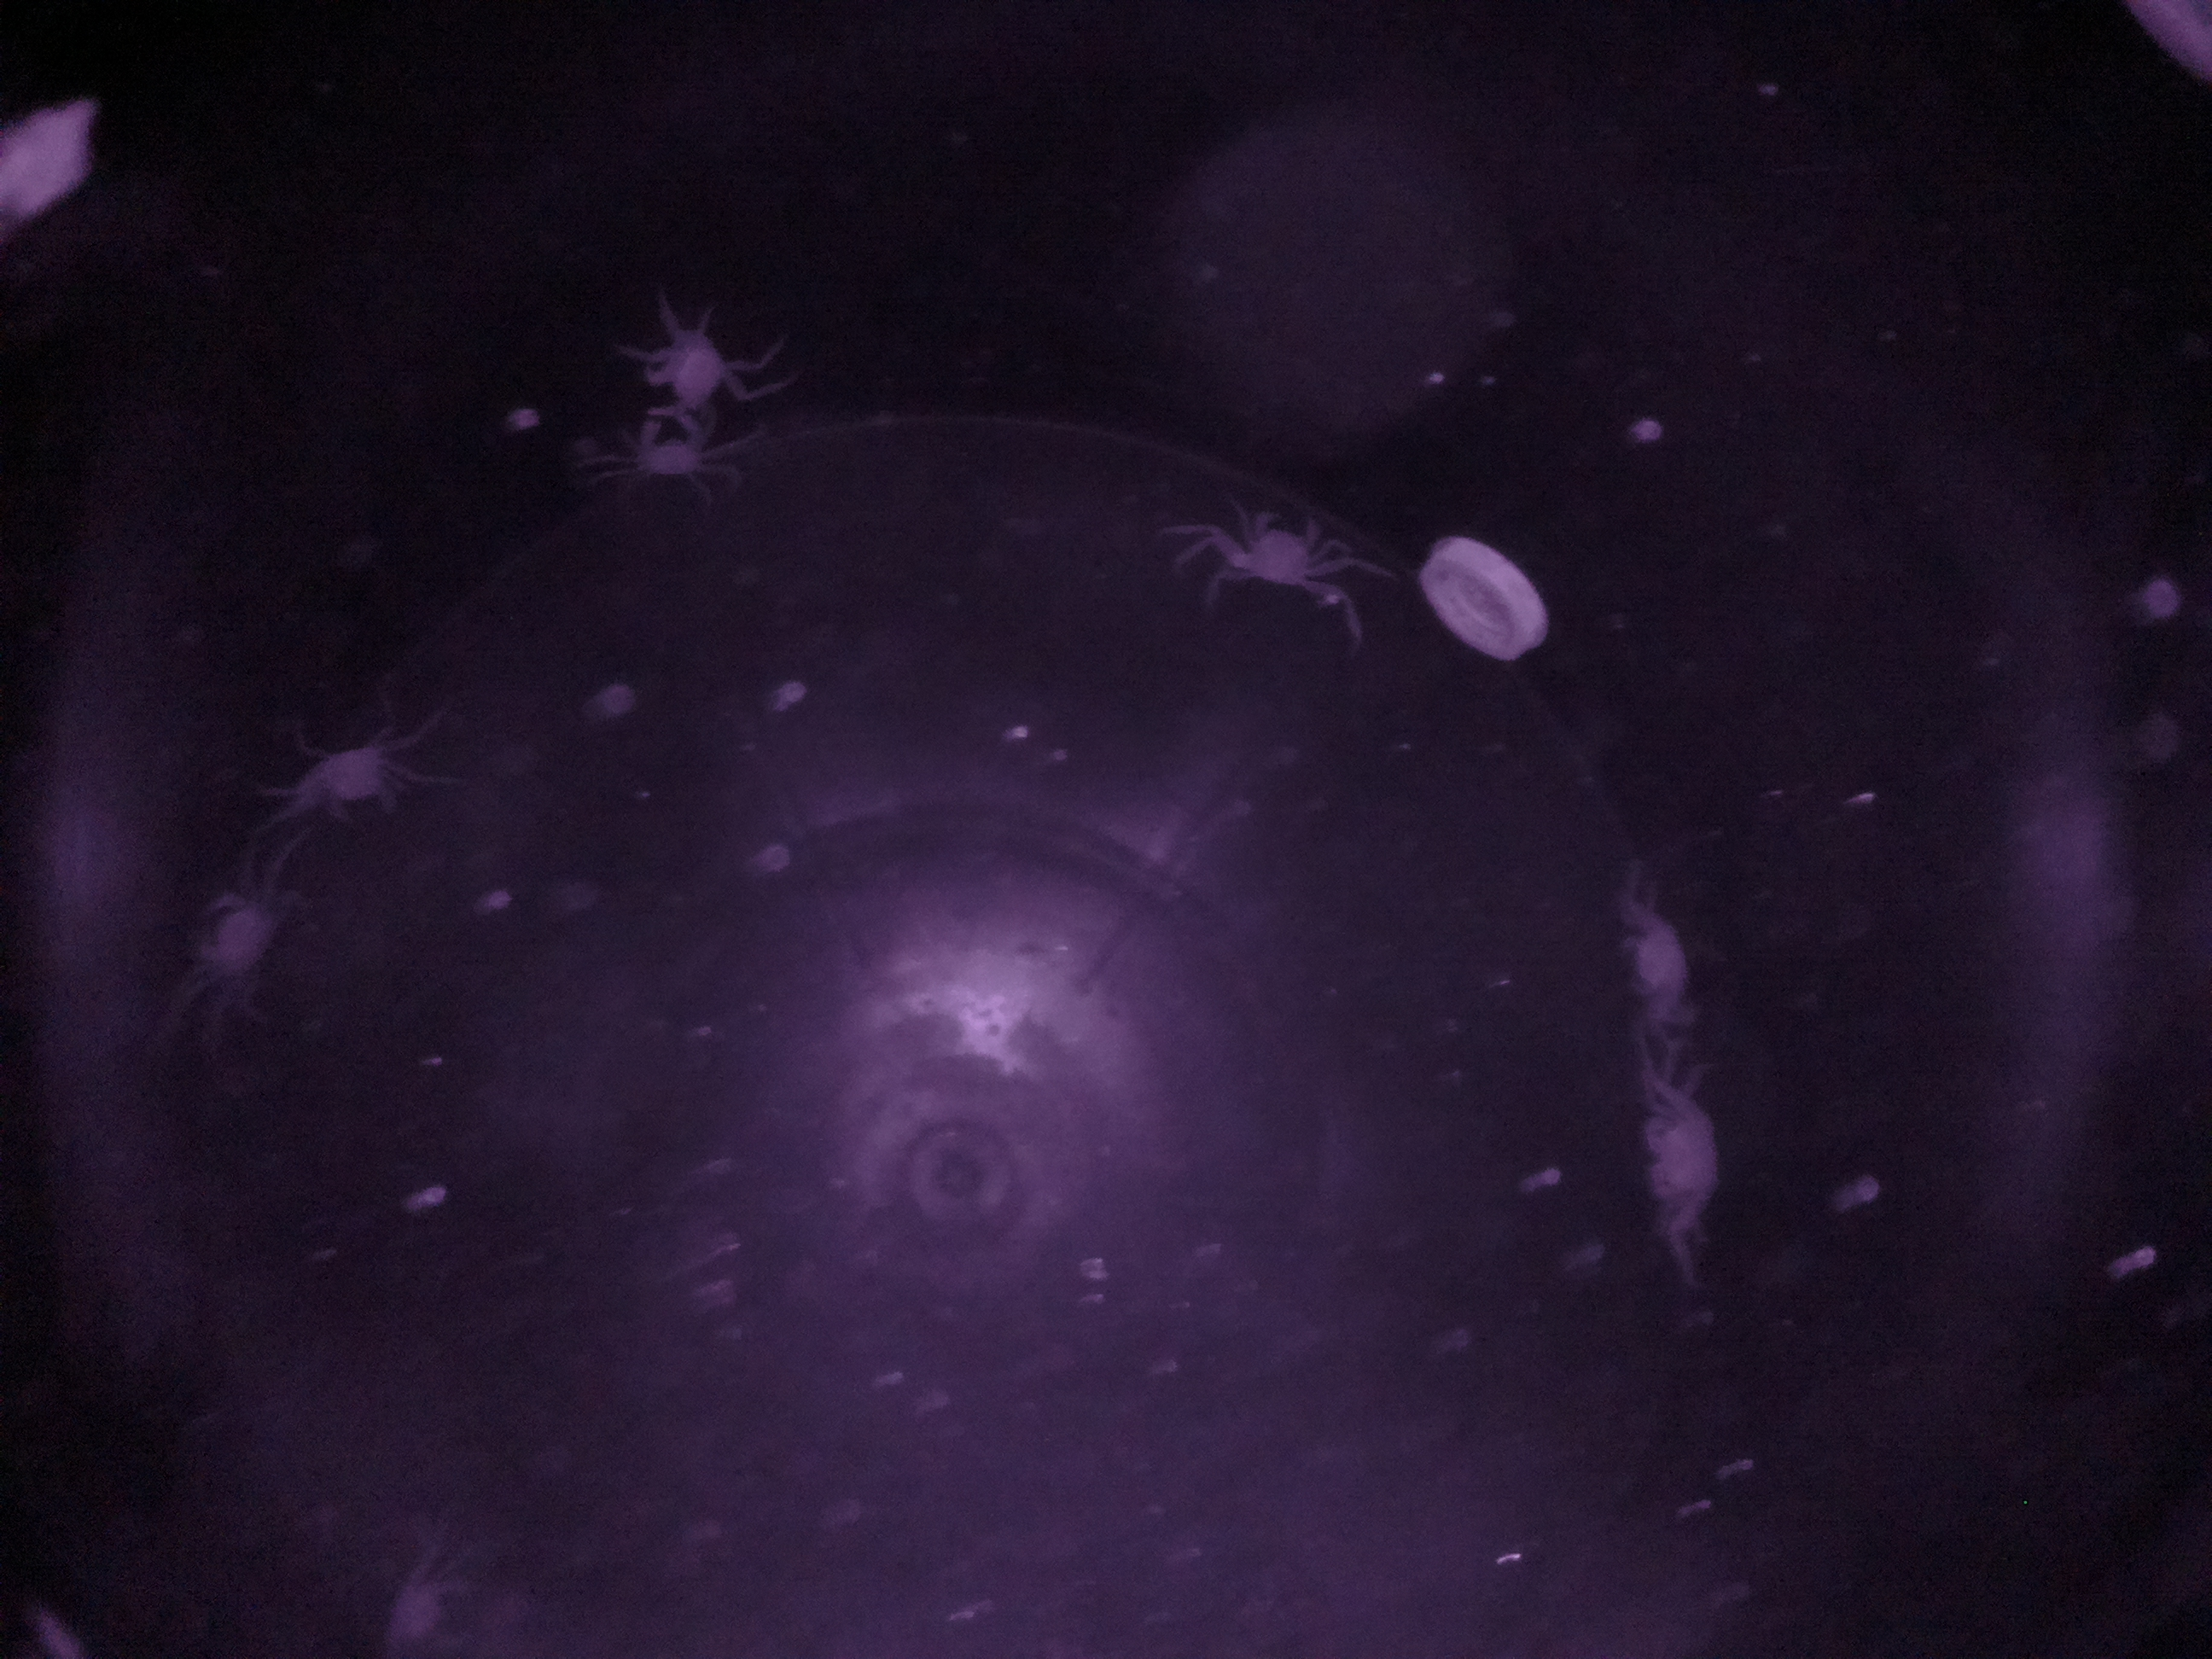Crab: (1212, 493, 1343, 605)
